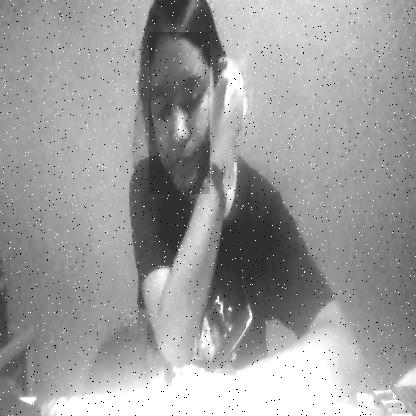Normal: (149, 32, 210, 194)
